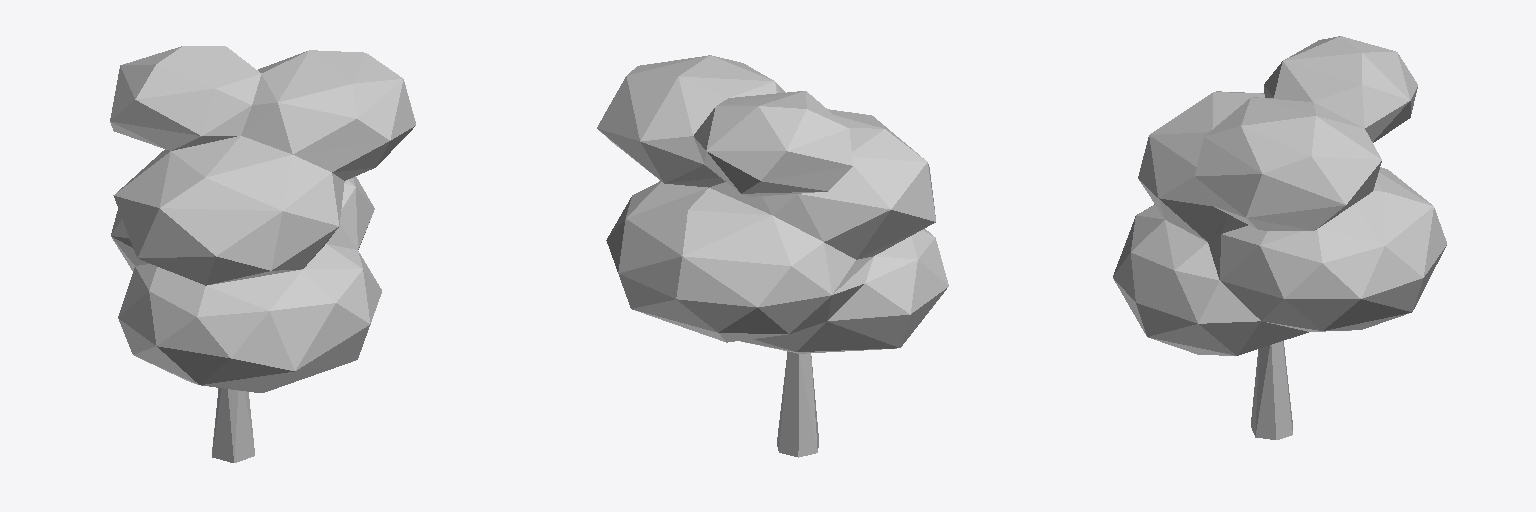
File: Tree4.obj
3 renders of one model, left to right at view 1: azimuth 30°, elevation 25°; view 2: azimuth 150°, elevation 25°; view 3: azimuth 270°, elevation 25°, orthographic.
Visible parts, largest first — view 1: Tree_Icosphere.006; view 2: Tree_Icosphere.006; view 3: Tree_Icosphere.006.
Boxes of the visible parts, box(x1,y1,x2,y2) form: Tree_Icosphere.006: box(110, 46, 415, 462); Tree_Icosphere.006: box(597, 55, 948, 457); Tree_Icosphere.006: box(1113, 36, 1446, 439).
Bounding box in the file's own units: 15.13 × 18.92 × 15.29.